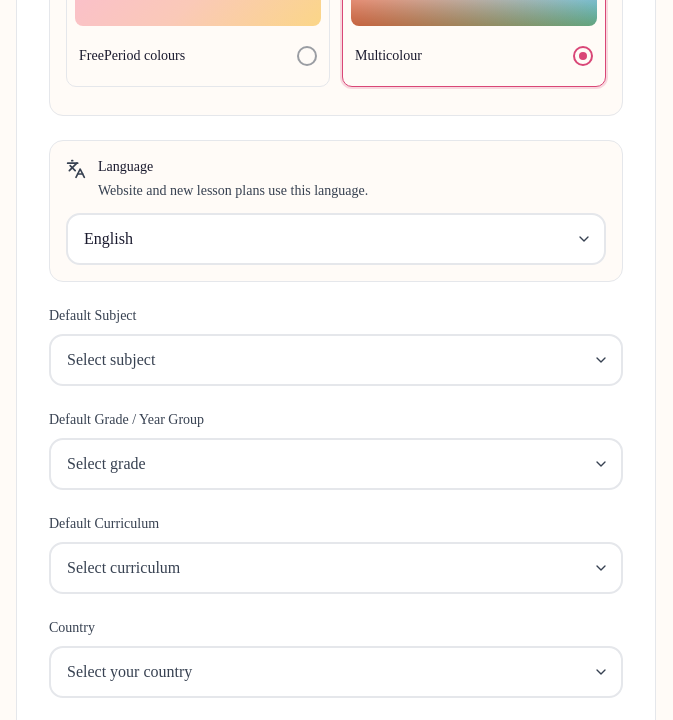
Test: SettingsClient — subject dropdown › selecting a subject updates the displayed value
The image size is (673, 720).
(page scrolled)
Click the button named "default subject". click: (111, 360)
box: 49,334 -> 623,386
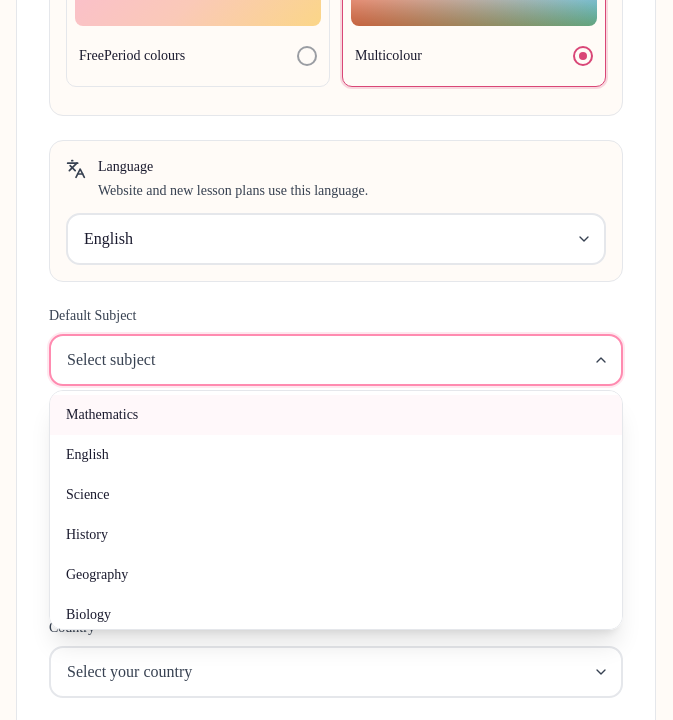
Click the option "Science". click: (88, 494)
box: 66,487 -> 110,502
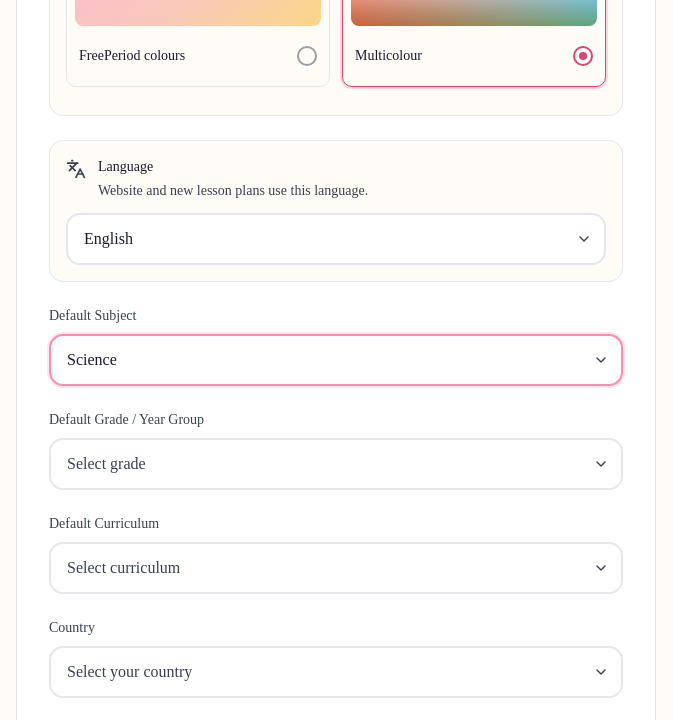
Expected: the button named "default subject" reads "Science", 49,334 -> 623,386
